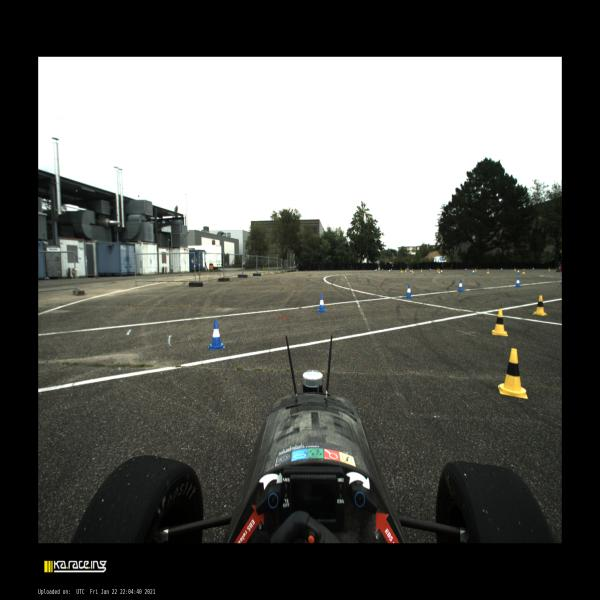blue_cone: (208, 320, 225, 351), (317, 294, 326, 312), (406, 285, 412, 298), (458, 280, 463, 292), (515, 277, 521, 287), (517, 269, 520, 274), (472, 269, 475, 274), (441, 269, 443, 274), (382, 268, 384, 272), (410, 269, 412, 273), (532, 267, 534, 271), (406, 268, 408, 272), (374, 269, 376, 272), (501, 268, 503, 270), (465, 268, 467, 270), (376, 268, 377, 272), (391, 268, 392, 272), (389, 269, 390, 272), (430, 268, 431, 271)
yellow_cone: (498, 349, 528, 399), (492, 309, 508, 336), (532, 295, 548, 316), (522, 268, 525, 274), (487, 268, 489, 274), (438, 268, 440, 274), (436, 267, 438, 272), (548, 267, 550, 271), (514, 267, 516, 271), (475, 268, 477, 272), (404, 268, 406, 272), (412, 268, 413, 273), (421, 268, 422, 272), (401, 269, 402, 272)
